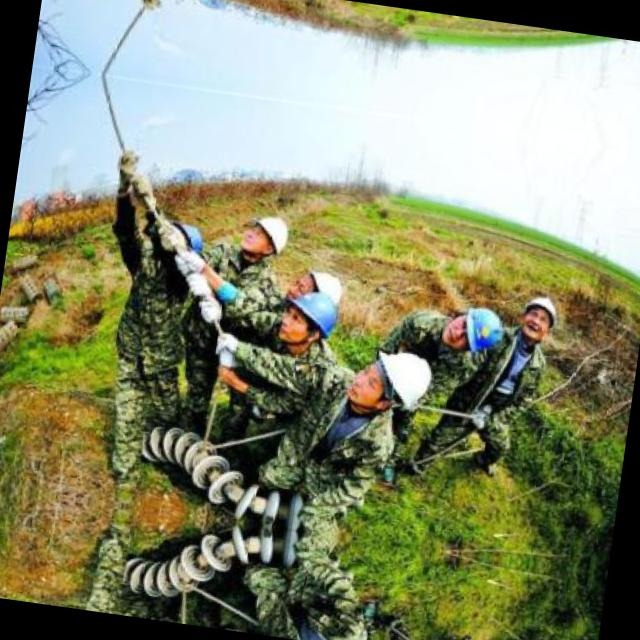helmet: (345, 334, 446, 426), (263, 278, 347, 356), (236, 207, 294, 265), (285, 266, 349, 310), (451, 301, 502, 355), (516, 290, 560, 346), (157, 214, 205, 260)
